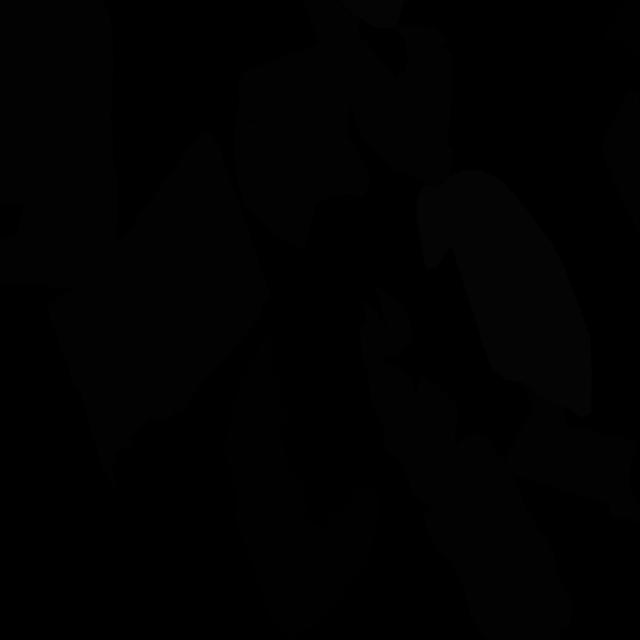cardboard: (46, 130, 272, 486), (423, 432, 572, 640), (234, 0, 404, 174), (360, 287, 458, 506), (234, 113, 371, 249), (506, 383, 640, 522), (391, 25, 453, 186), (602, 89, 640, 237)
rigid_plastic: (224, 335, 380, 640), (604, 0, 640, 58)
soft_plastic: (416, 170, 592, 418), (338, 0, 405, 28)
